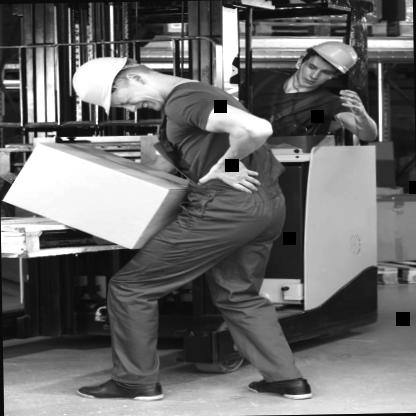helmet: (68, 52, 172, 115), (290, 38, 360, 88)
